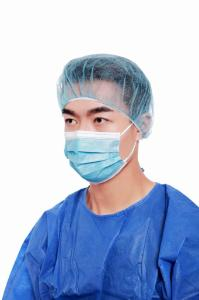with_mask_and_cap: (57, 55, 150, 185)
